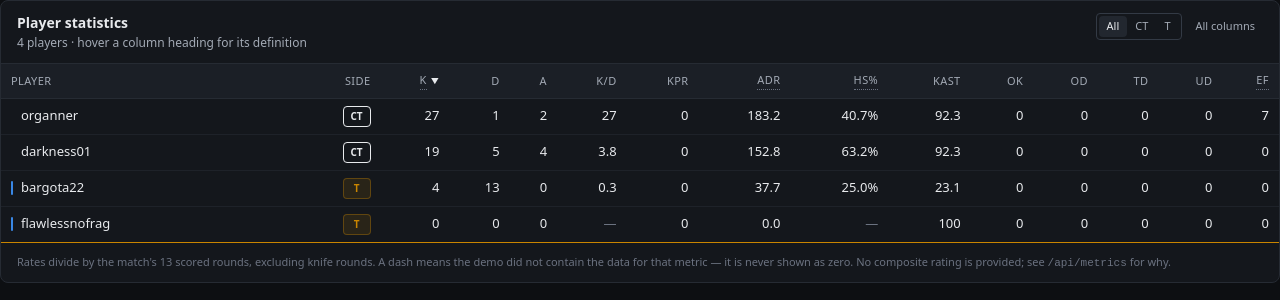
Test case: PlayersTab › filters by side
Click the button "T": (1167, 26) [1156, 16, 1178, 36]
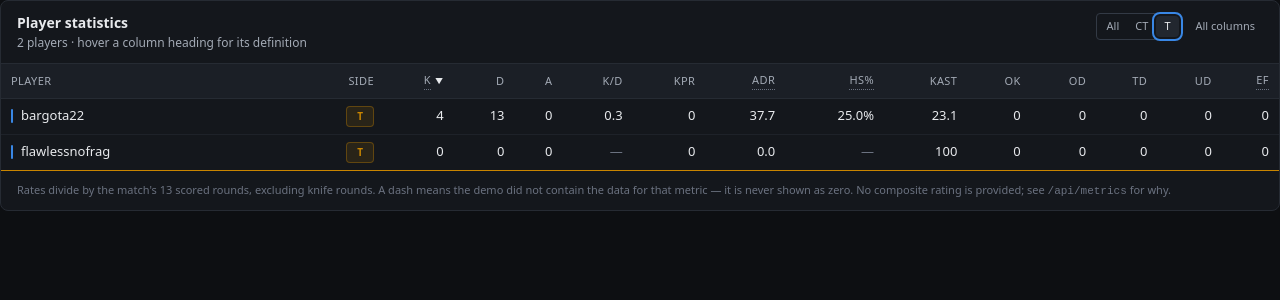
Expected: the text "bargota22" is shown, [21, 106, 84, 126]
Now the text "organner" is gone
